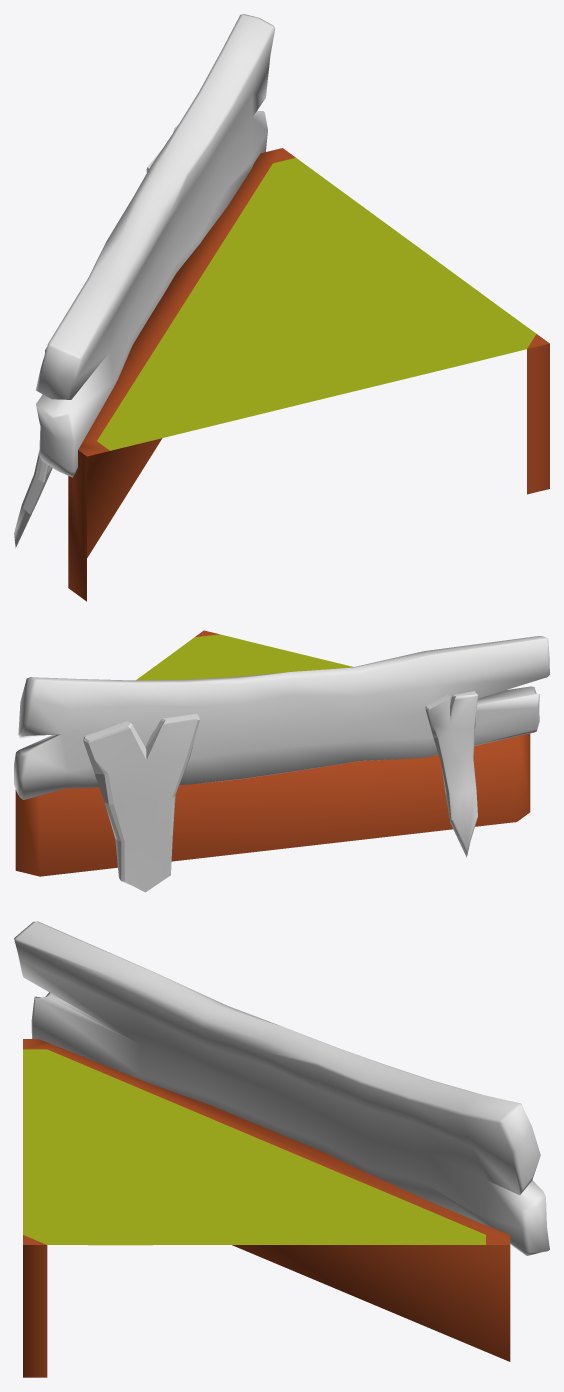
Rendered from Shear_Up.fbx.
3 renders of one model, top to bottom at view 1: azimuth 30°, elevation 25°; view 2: azimuth 150°, elevation 25°; view 3: azimuth 270°, elevation 25°, orthographic. The views are drawn at different scales.
Visible parts, largest first — view 1: SM_Bld_Sign_04.000; view 2: SM_Bld_Sign_04.000; view 3: SM_Bld_Sign_04.000.
Boxes of the visible parts, x1,y1,x2,y2 form: SM_Bld_Sign_04.000: [14, 14, 549, 601]; SM_Bld_Sign_04.000: [14, 630, 549, 892]; SM_Bld_Sign_04.000: [14, 921, 549, 1377].
Bounding box in the file's own units: 217 × 125 × 220.
